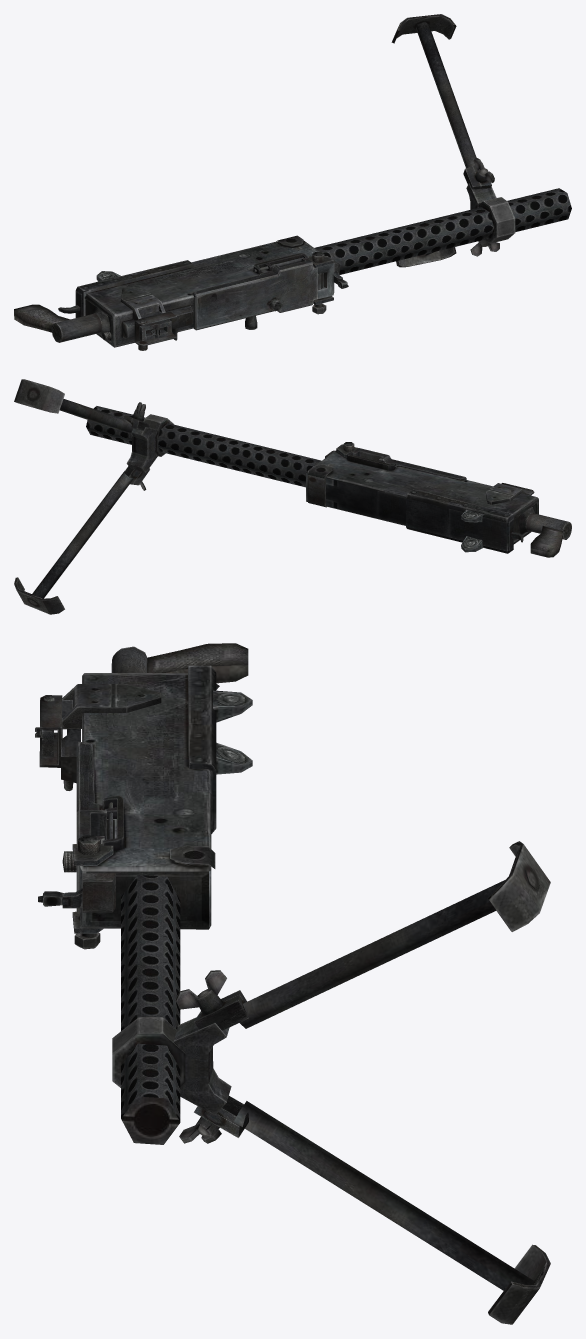
Rendered from weapon_30cal.glb.
3 renders of one model, top to bottom at view 1: azimuth 30°, elevation 25°; view 2: azimuth 150°, elevation 25°; view 3: azimuth 270°, elevation 25°, orthographic. The views are drawn at different scales.
Size of the model in its own units: 38.15 by 17.28 by 17.71.
Materials: 1 (1 with a texture image).
